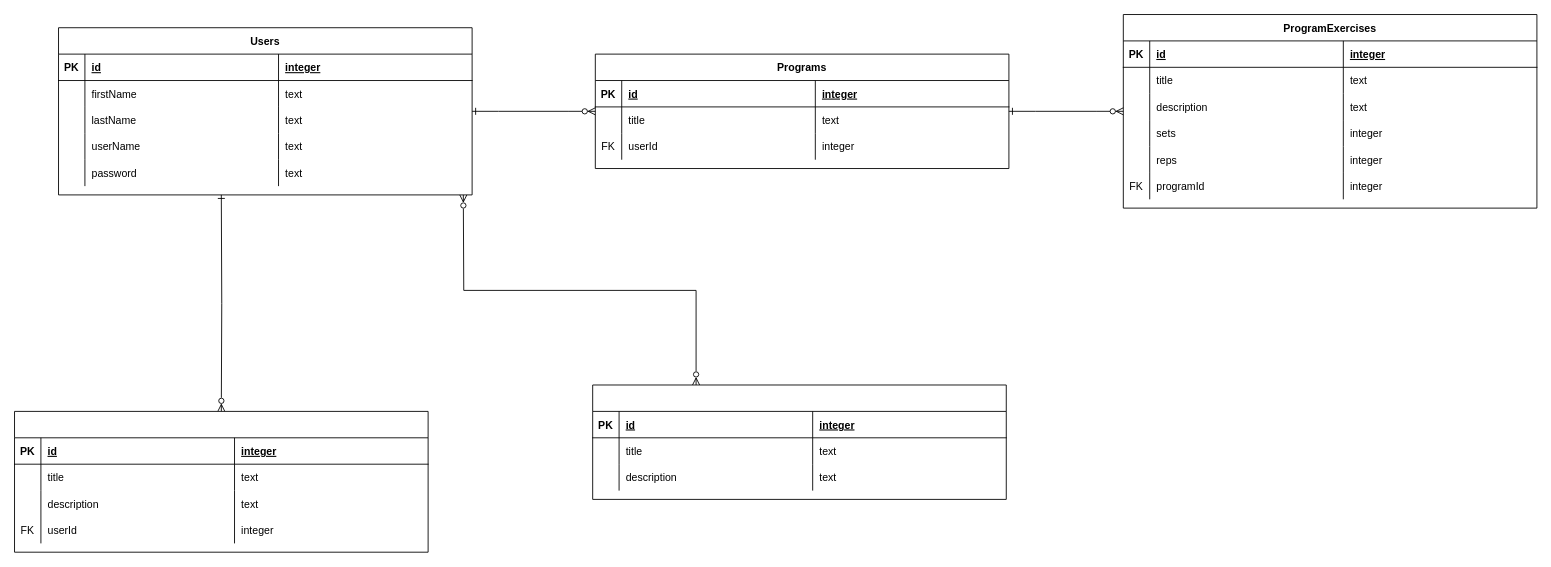
Image size: 1551x567. Some labels were removed from this diagram. The box of each missing label's shape, as (x1, y1, x2, y2) in pixels:
PrivateExercises: (14, 411, 428, 552)
SharedExercises: (592, 384, 1006, 499)
